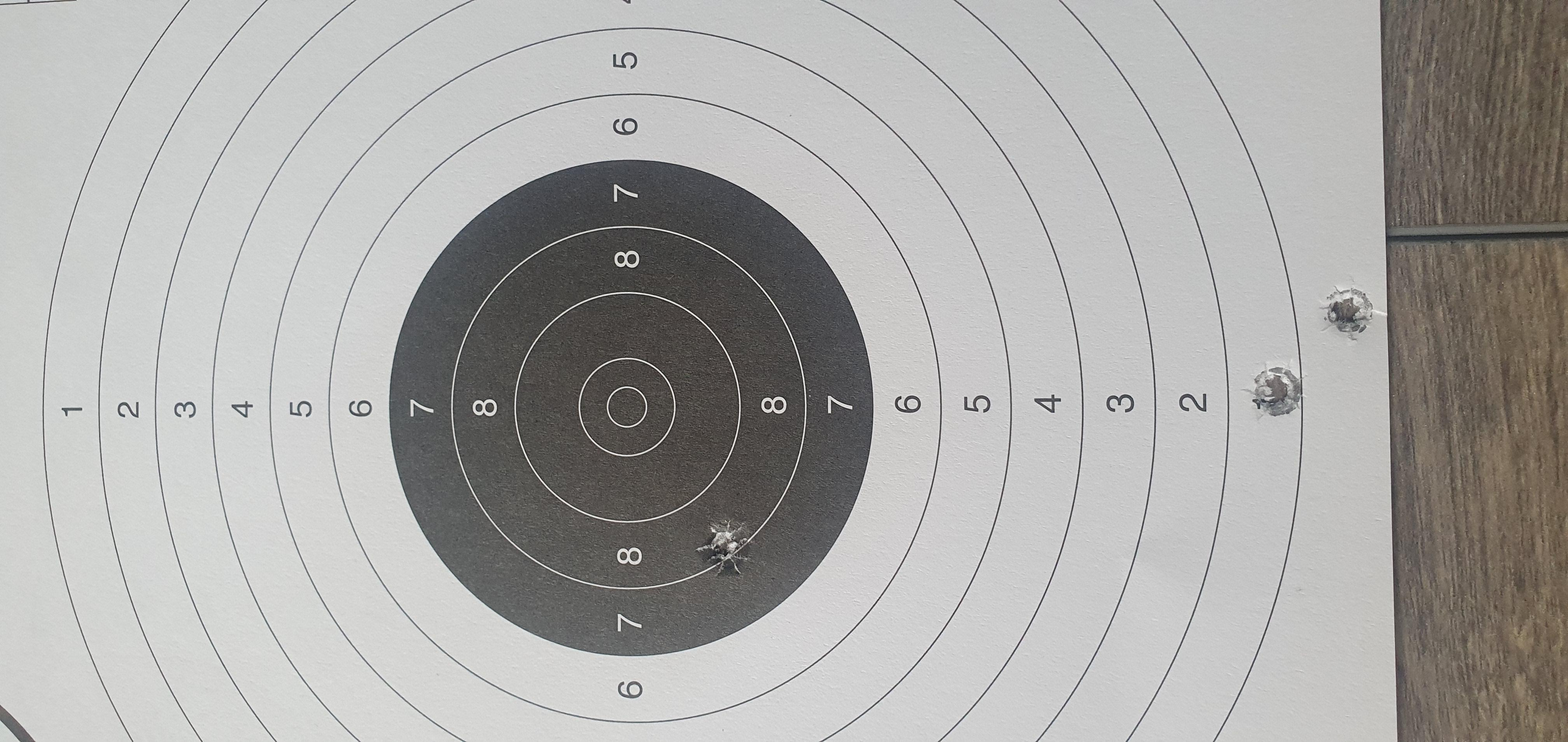hole: (833, 625, 983, 658), (332, 329, 466, 359), (682, 589, 797, 617)
